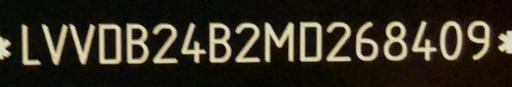letter: (262, 18, 296, 65), (38, 21, 70, 66), (408, 16, 438, 63), (232, 20, 262, 65), (179, 19, 207, 66), (380, 19, 410, 62), (436, 17, 464, 62), (296, 18, 324, 63), (68, 21, 96, 66), (352, 18, 380, 61), (324, 20, 352, 63), (150, 21, 178, 64), (122, 22, 150, 65), (207, 20, 233, 65), (96, 22, 122, 67), (18, 21, 42, 68), (465, 18, 491, 61)
